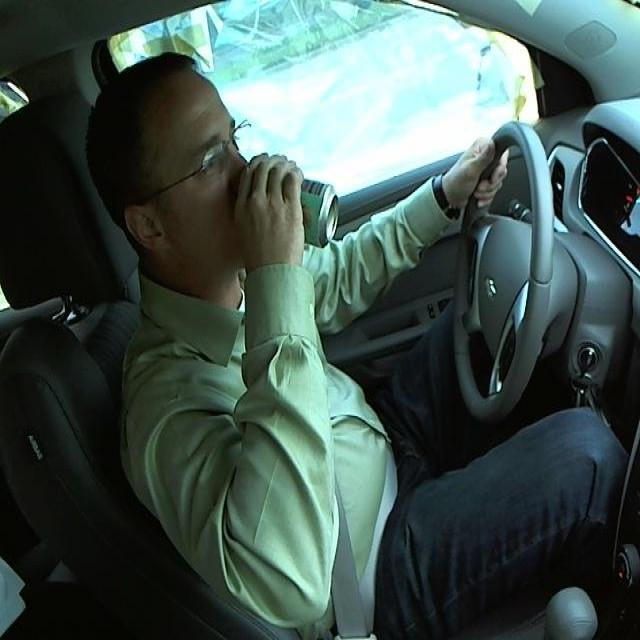drinking: (247, 159, 339, 250)
